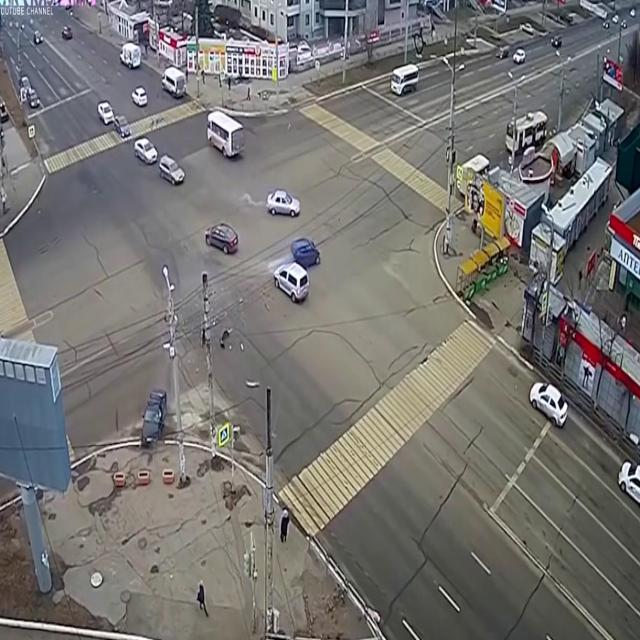accident: (267, 225, 323, 310), (130, 358, 171, 466)
non_accident: (132, 127, 188, 196), (95, 89, 133, 143)
